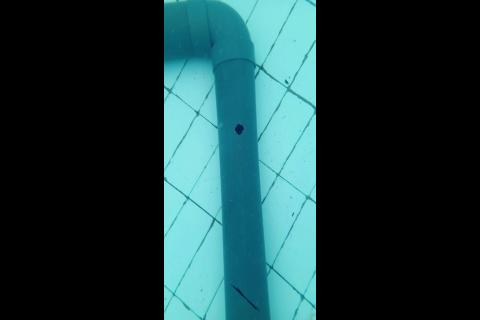kebocoran: (234, 121, 245, 137)
keretakan: (229, 282, 261, 312)
